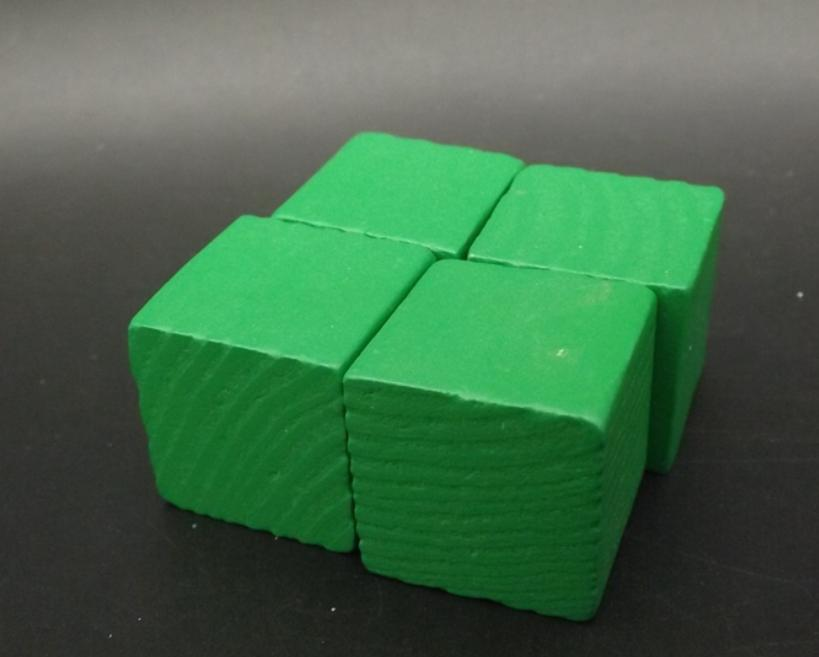green cube: (343, 255, 660, 620), (125, 214, 436, 552), (463, 161, 724, 471), (270, 128, 528, 260)
